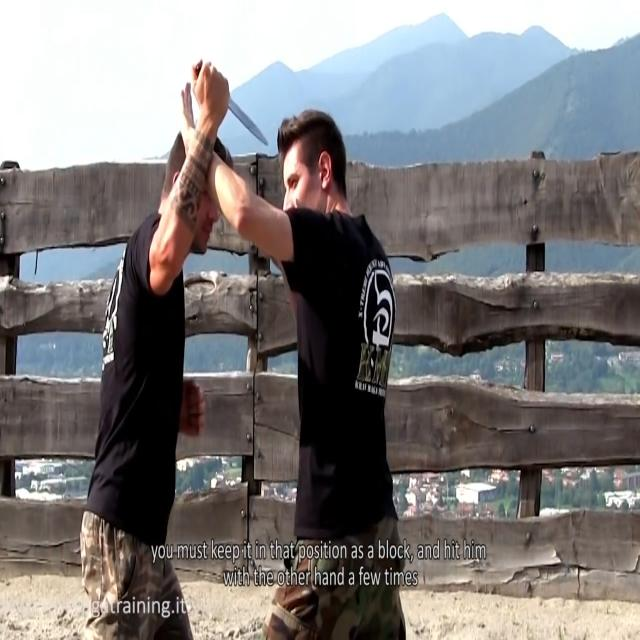knife: (226, 86, 272, 150)
